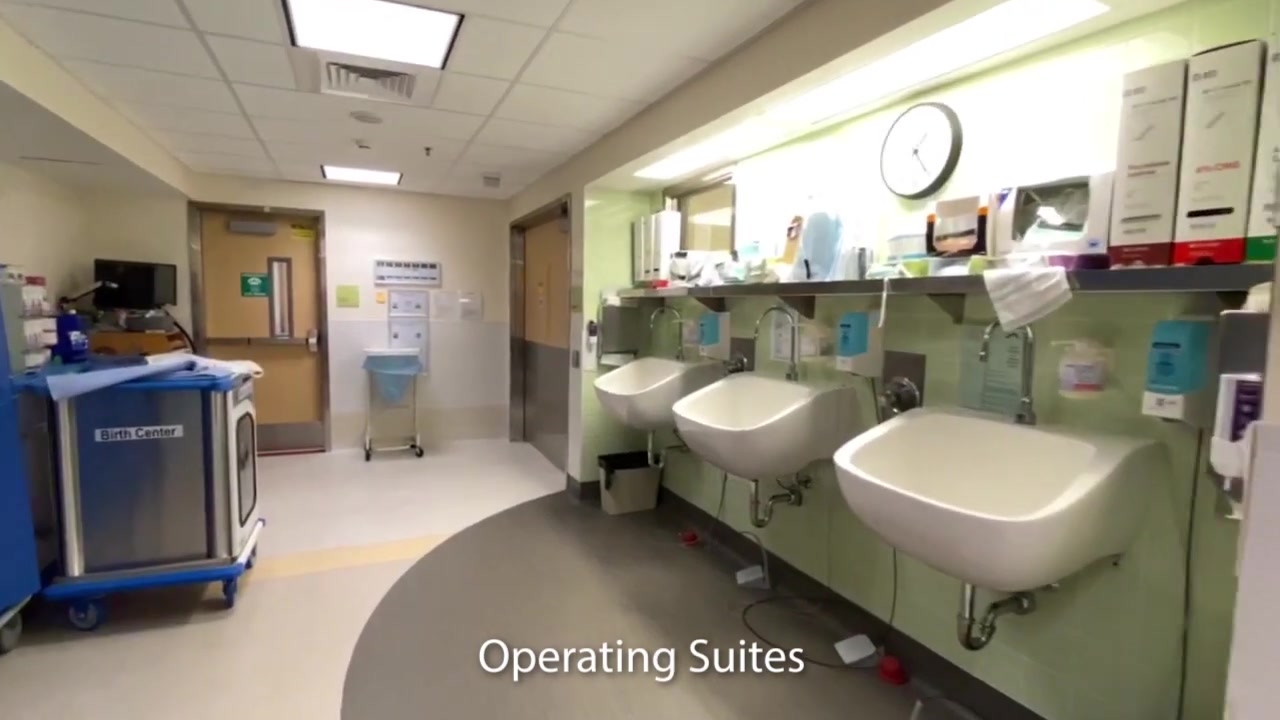computer: (92, 259, 177, 309)
dispenser: (1141, 313, 1215, 429), (1050, 340, 1113, 400), (835, 310, 887, 379), (598, 293, 642, 364), (698, 311, 732, 359)
faucet: (979, 318, 1038, 427), (755, 305, 796, 383), (650, 306, 685, 359)
press_to_open: (571, 348, 582, 369)
push_latch: (201, 331, 320, 355)
sink: (836, 402, 1155, 598), (676, 371, 849, 482), (593, 357, 723, 429)
waste_bin: (364, 349, 427, 458), (598, 449, 659, 515)
